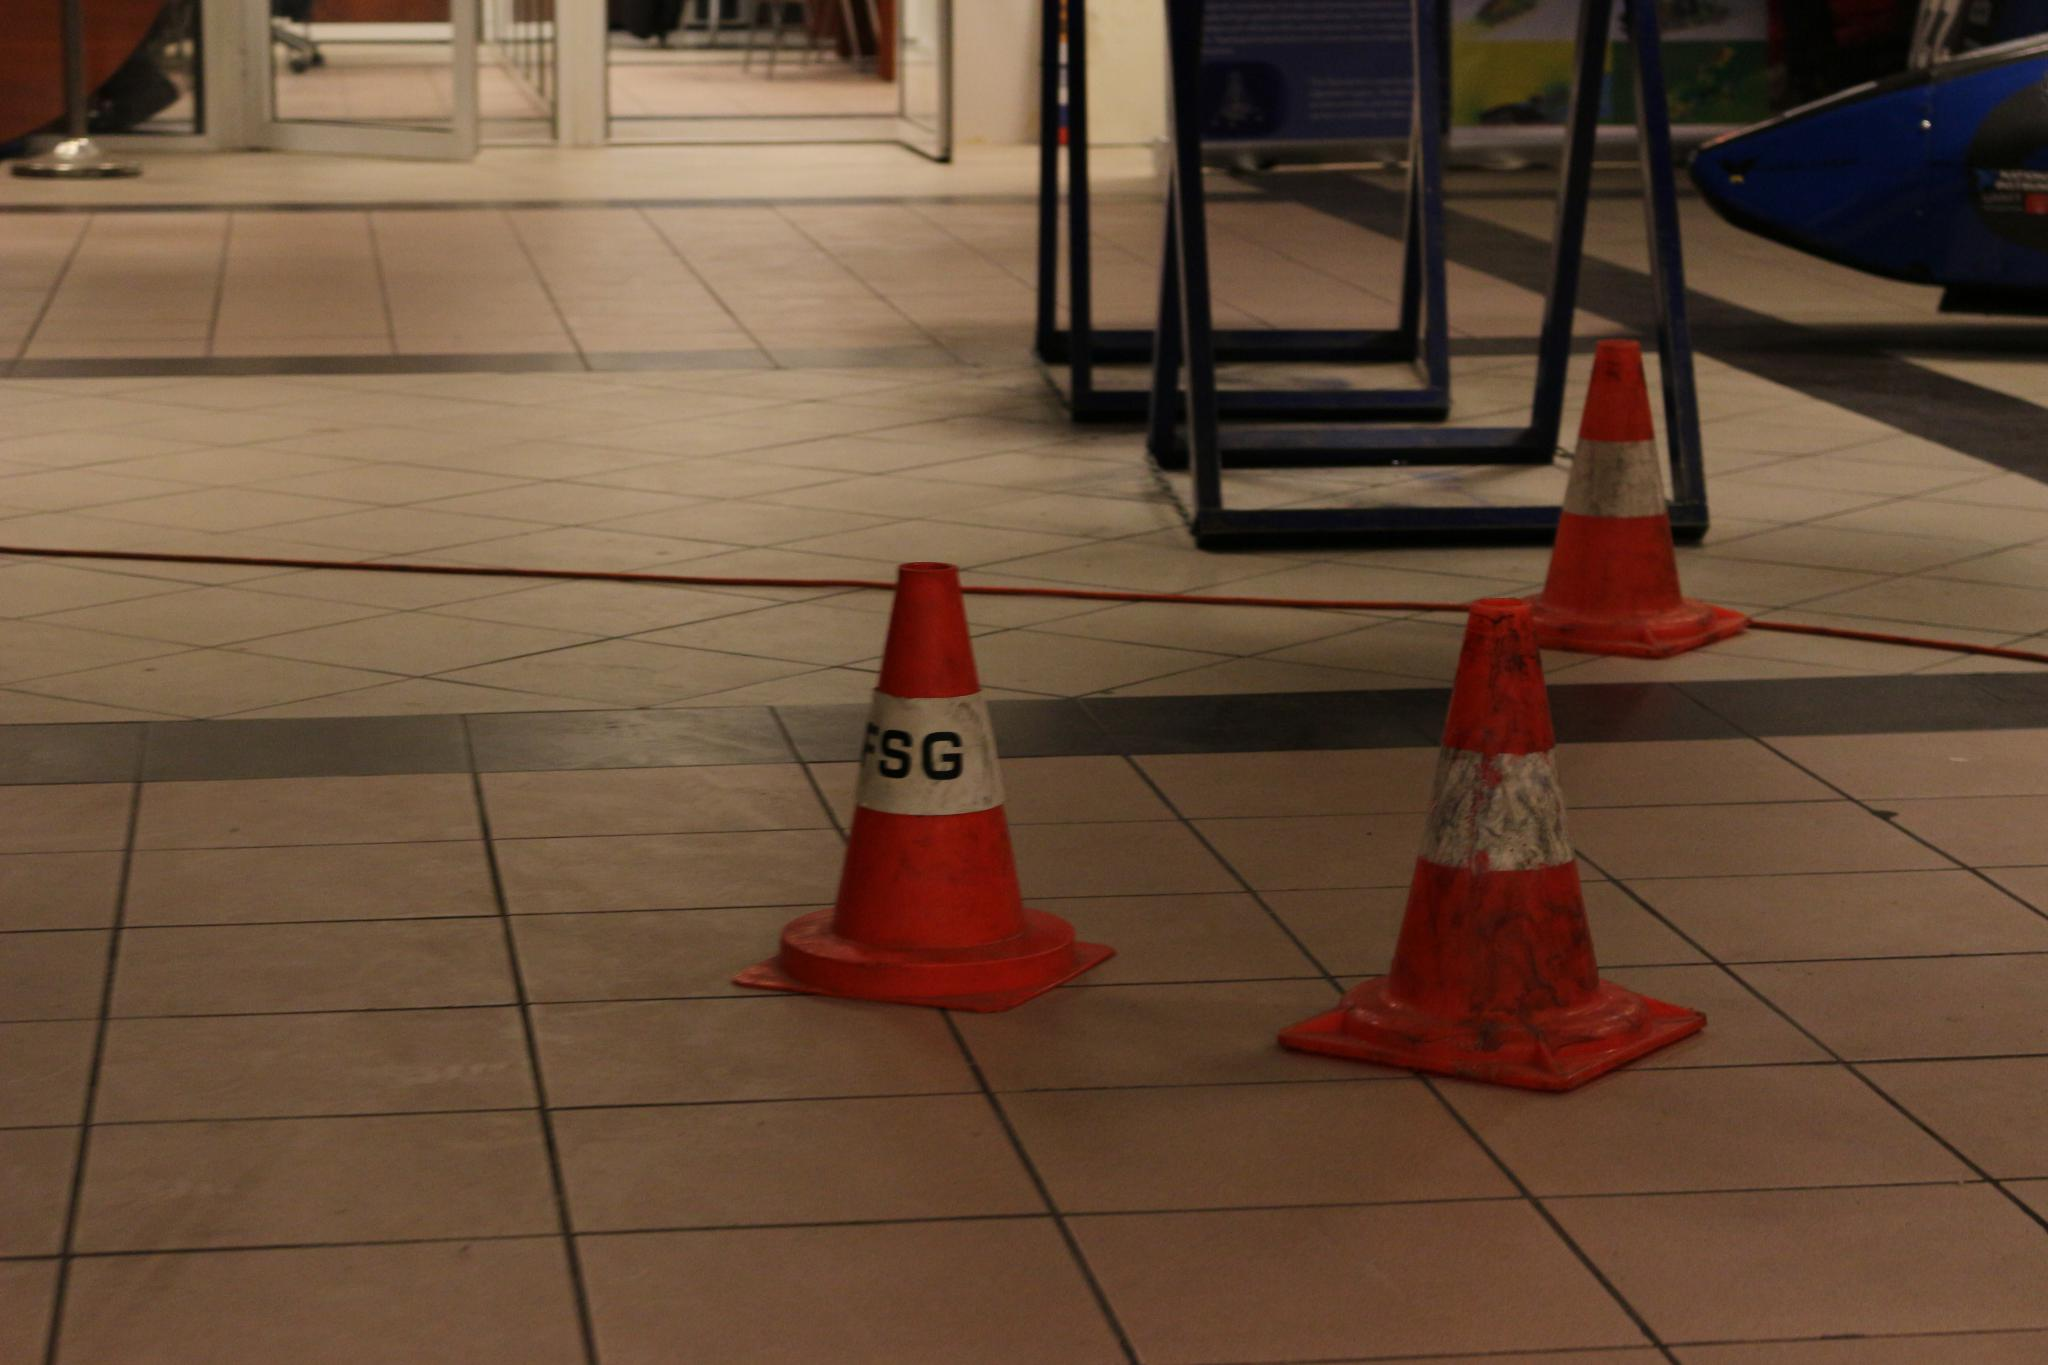Orange_Cone: (1313, 574, 1692, 1097), (774, 541, 1105, 1007), (1512, 312, 1742, 654)
